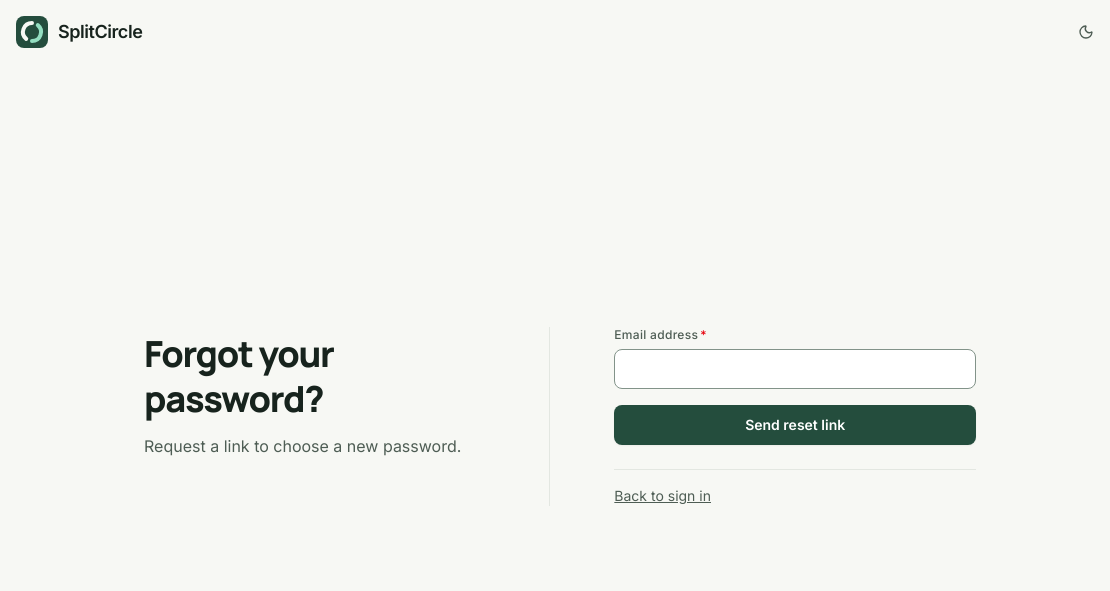
Scenario: shows the generic response from forgot password
The image size is (1110, 591).
Type "user@example.test" into the field labelled "Email address*".
click(795, 368); type("user@example.test")  # box [614, 348, 976, 388]
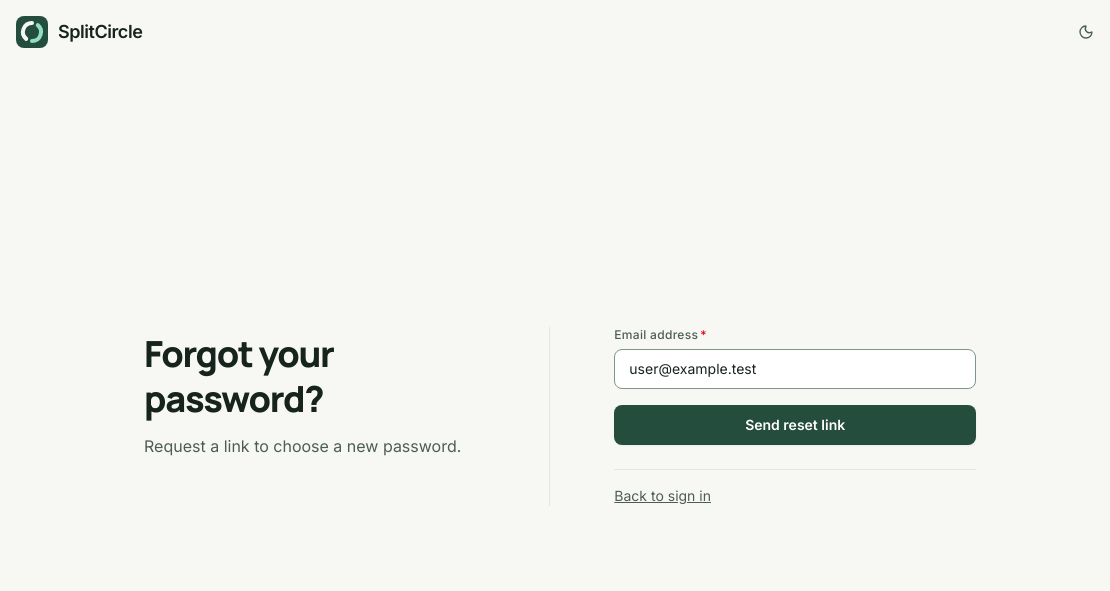
Click the button "Send reset link".
click(795, 424)  # box [614, 404, 976, 444]
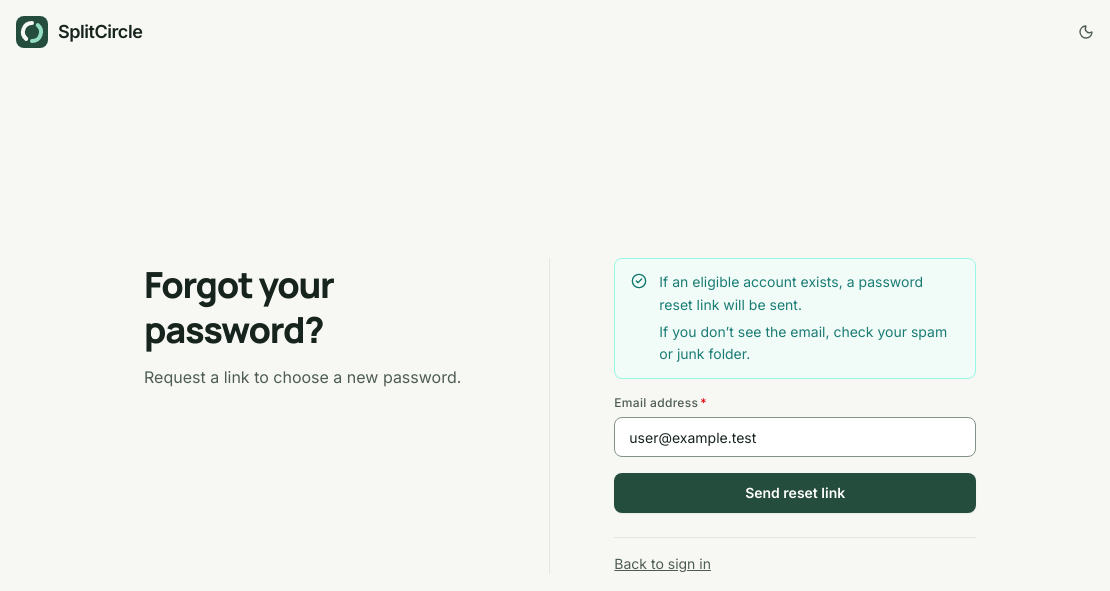
Expected: the text "If an eligible account exists" is shown, [659, 273, 923, 313]
Expected: the text "If you don’t see the email, check your spam or junk folder." is shown, [659, 320, 959, 366]
